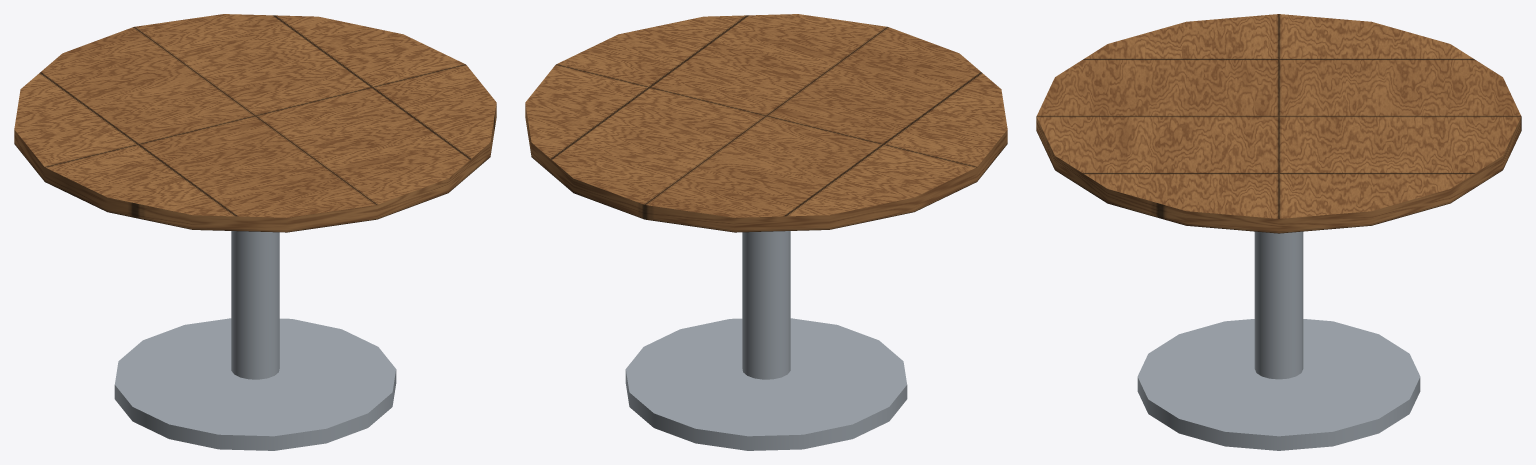
The model's file is Etkezoasztal_kerek.obj.
The picture shows the model from 3 angles, left to right: view 1: azimuth 30°, elevation 25°; view 2: azimuth 150°, elevation 25°; view 3: azimuth 270°, elevation 25°; orthographic projection.
Size of the model in its own units: 1.2 by 0.75 by 1.2.
2 materials, 1 textured.
